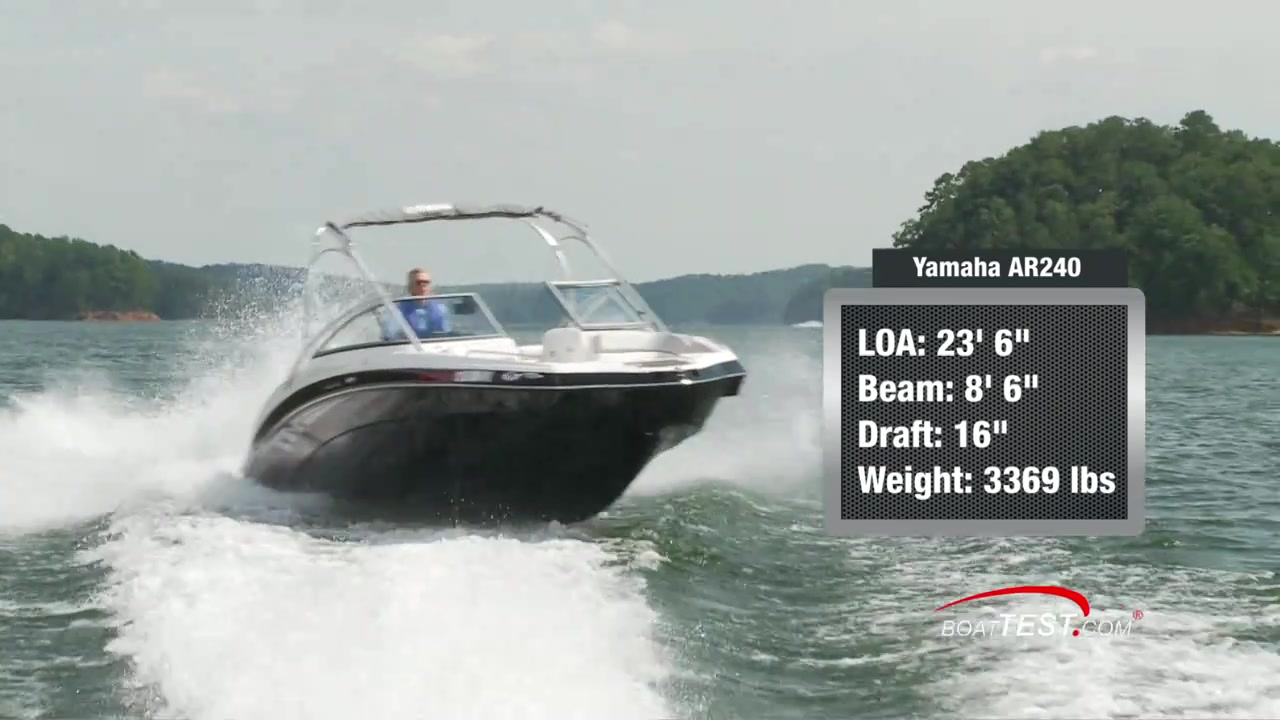boat: (239, 210, 748, 530)
